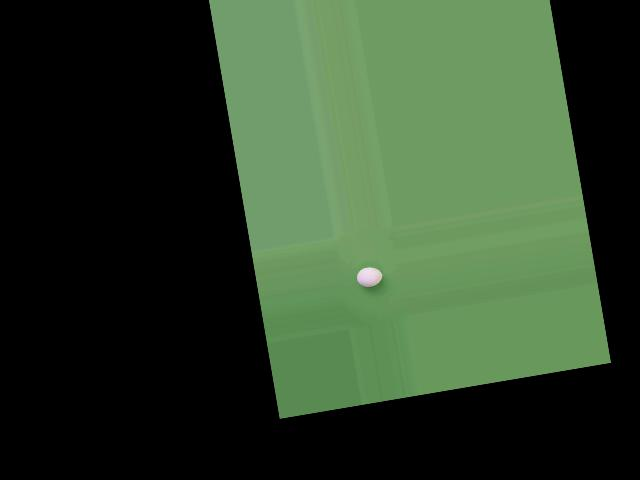egg: (354, 265, 383, 288)
